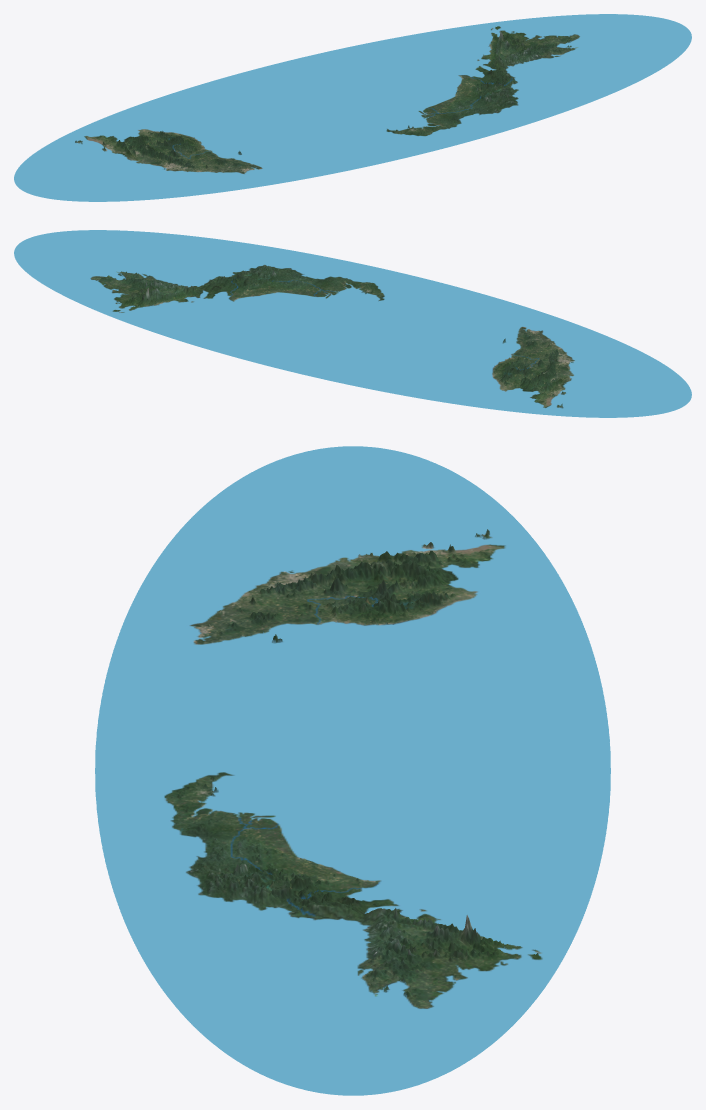
Rendered from MYS-previa-terrain.glb.
3 views of the same model, one above another, from view 1: azimuth 30°, elevation 25°; view 2: azimuth 150°, elevation 25°; view 3: azimuth 270°, elevation 25° (orthographic). The views are drawn at different scales.
Visible parts, largest first — view 1: Malásia; view 2: Malásia; view 3: Malásia.
Part boxes in pixels (bbox=[...]): Malásia: bbox=[14, 14, 691, 201]; Malásia: bbox=[14, 230, 691, 417]; Malásia: bbox=[95, 446, 610, 1095].
Bounding box in the file's own units: 2.39 × 0.0487 × 0.8026.
Materials: 1 (1 with a texture image).
